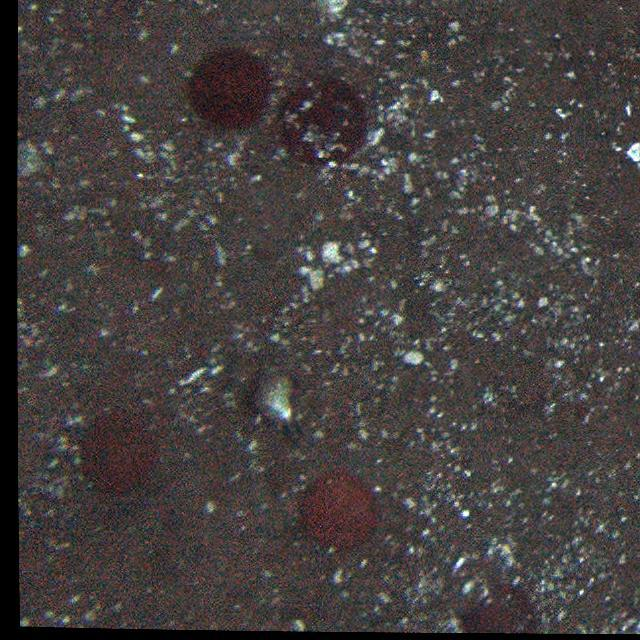whelk: (250, 356, 298, 426)
